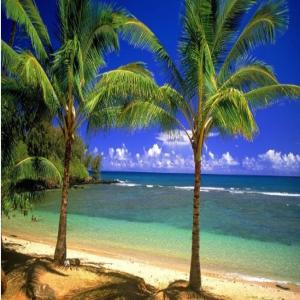palm tree: (95, 0, 299, 293), (2, 0, 173, 265)
